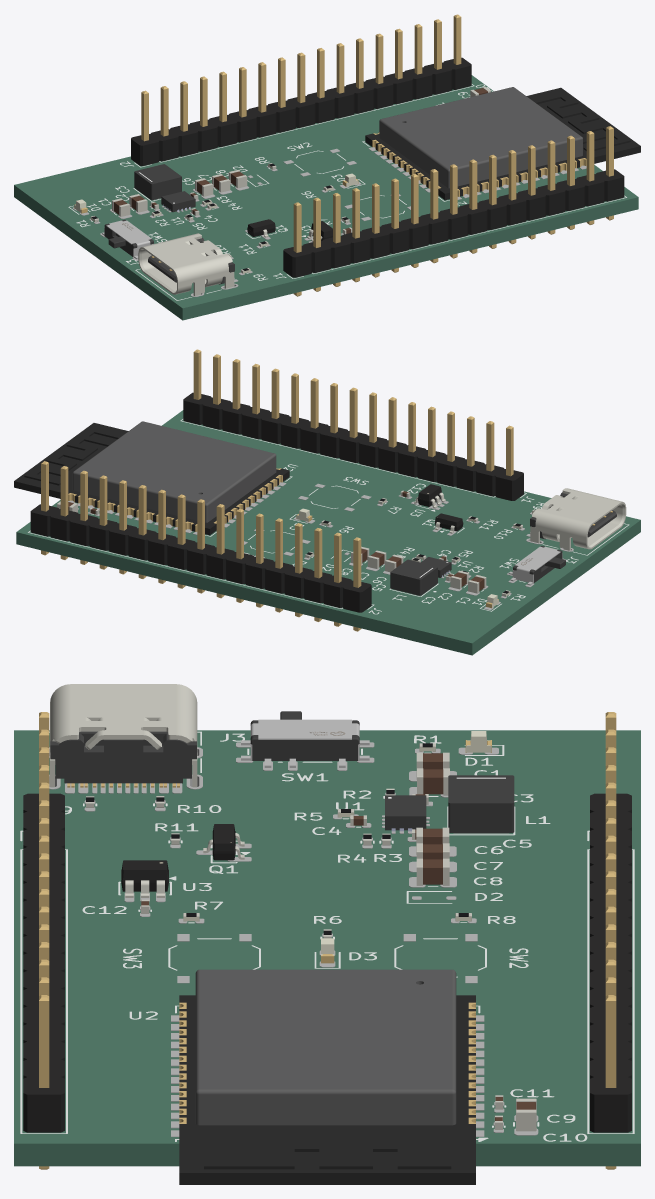
The model's file is assembly.glb.
The picture shows the model from 3 angles, top to bottom: view 1: azimuth 30°, elevation 25°; view 2: azimuth 150°, elevation 25°; view 3: azimuth 270°, elevation 25°; orthographic projection. The views are drawn at different scales.
Parts seen in each view (by area): view 1: =>[0:1:1:16], J1, J2, U2, J3, =>[0:1:1:15], =>[0:1:1:14], L1, SW1, U1; view 2: =>[0:1:1:16], J2, J1, U2, J3, =>[0:1:1:15], =>[0:1:1:14], L1, SW1, U3; view 3: =>[0:1:1:16], U2, J2, J1, J3, =>[0:1:1:15], =>[0:1:1:14], SW1, L1, U3, U1, Q1 (+3 smaller).
Boxes of the visible parts, left/top/right/bottom form: =>[0:1:1:16]: left=14, top=75, right=638, bottom=320; J1: left=283, top=126, right=624, bottom=296; J2: left=131, top=14, right=471, bottom=165; U2: left=365, top=87, right=640, bottom=200; J3: left=138, top=233, right=234, bottom=295; =>[0:1:1:15]: left=68, top=84, right=626, bottom=300; =>[0:1:1:14]: left=72, top=147, right=586, bottom=296; L1: left=134, top=164, right=181, bottom=200; SW1: left=102, top=219, right=153, bottom=259; U1: left=161, top=191, right=195, bottom=212; =>[0:1:1:16]: left=16, top=410, right=640, bottom=655; J2: left=30, top=461, right=371, bottom=631; J1: left=183, top=349, right=523, bottom=500; U2: left=14, top=421, right=289, bottom=535; J3: left=530, top=488, right=626, bottom=550; =>[0:1:1:15]: left=28, top=419, right=629, bottom=614; =>[0:1:1:14]: left=68, top=482, right=573, bottom=610; L1: left=390, top=559, right=437, bottom=595; SW1: left=508, top=546, right=565, bottom=585; U3: left=414, top=484, right=445, bottom=508; =>[0:1:1:16]: left=14, top=730, right=640, bottom=1166; U2: left=179, top=969, right=475, bottom=1184; J2: left=590, top=712, right=631, bottom=1169; J1: left=23, top=712, right=64, bottom=1169; J3: left=50, top=684, right=197, bottom=787; =>[0:1:1:15]: left=20, top=731, right=634, bottom=1141; =>[0:1:1:14]: left=49, top=742, right=538, bottom=1136; SW1: left=241, top=711, right=369, bottom=767; L1: left=448, top=775, right=514, bottom=832; U3: left=121, top=860, right=168, bottom=897; U1: left=385, top=795, right=426, bottom=831; Q1: left=203, top=824, right=244, bottom=860.
Bounding box in the file's own units: 0.0654 × 0.0115 × 0.038.
